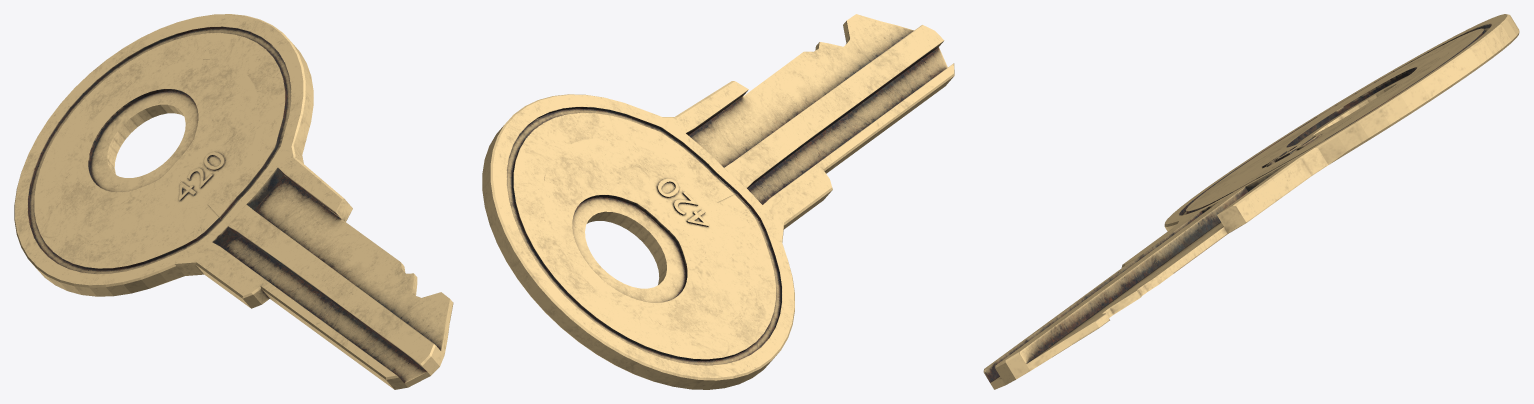
Rendered from key.fbx.
3 views of the same model, side by side, from view 1: azimuth 30°, elevation 25°; view 2: azimuth 150°, elevation 25°; view 3: azimuth 330°, elevation 25° (orthographic). The views are drawn at different scales.
Parts seen in each view (by area): view 1: key_key; view 2: key_key; view 3: key_key.
Boxes of the visible parts, left/top/right/bottom form: key_key: left=14, top=14, right=453, bottom=389; key_key: left=482, top=14, right=954, bottom=389; key_key: left=983, top=14, right=1519, bottom=389.
Bounding box in the file's own units: 23.42 × 18.08 × 59.97.
